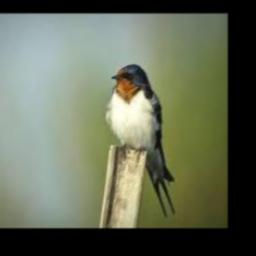Swallow: (105, 65, 177, 218)
